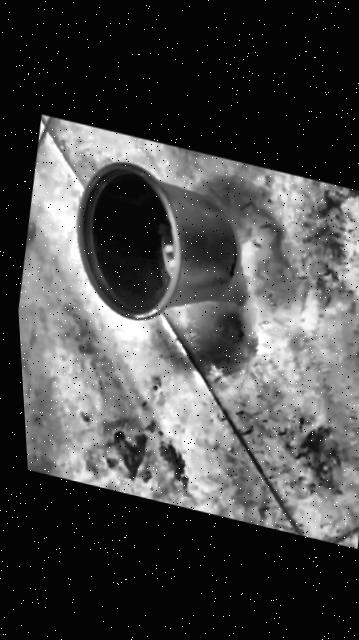pot: (56, 151, 251, 344)
